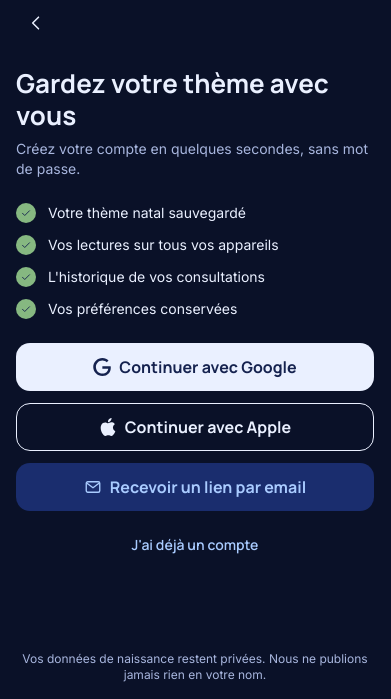
Test case: AuthFlow › opens on the requested mode and switches between sign up and sign in
Check: the heading "Gardez votre thème avec vous" is shown, box [16,67,374,131]
Click the button "J'ai déjà un compte" at (195, 545), box [132,535,258,555]
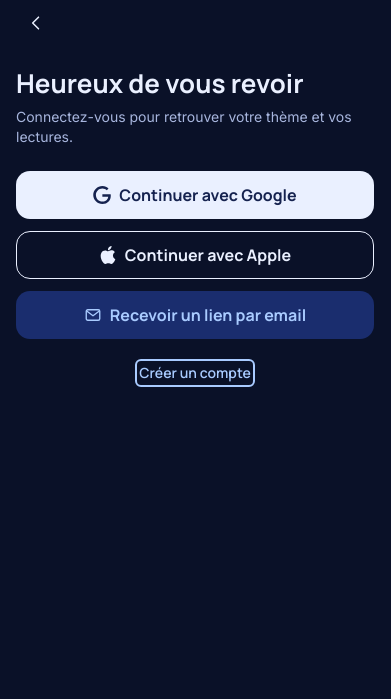
Check: the heading "Heureux de vous revoir" is shown, box [16,65,304,101]
